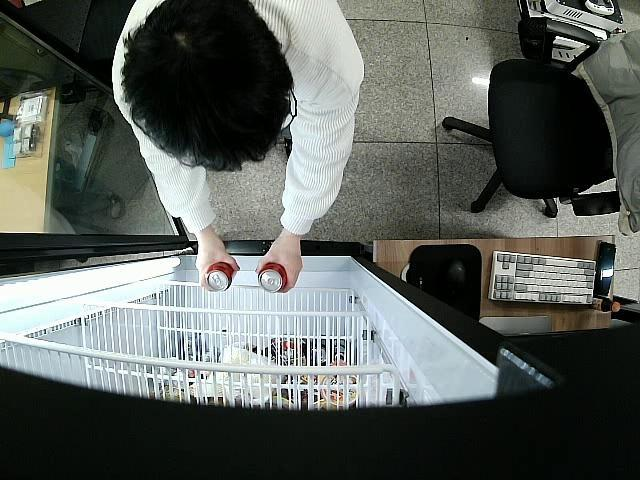11_cocaColaZero: (258, 263, 288, 294), (204, 260, 236, 289)
